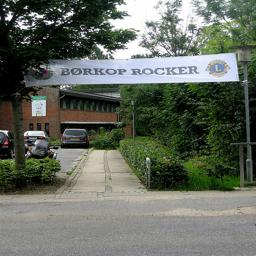car: (88, 236, 133, 256), (30, 239, 76, 256), (1, 227, 20, 256)
motorbike: (36, 234, 88, 256)
